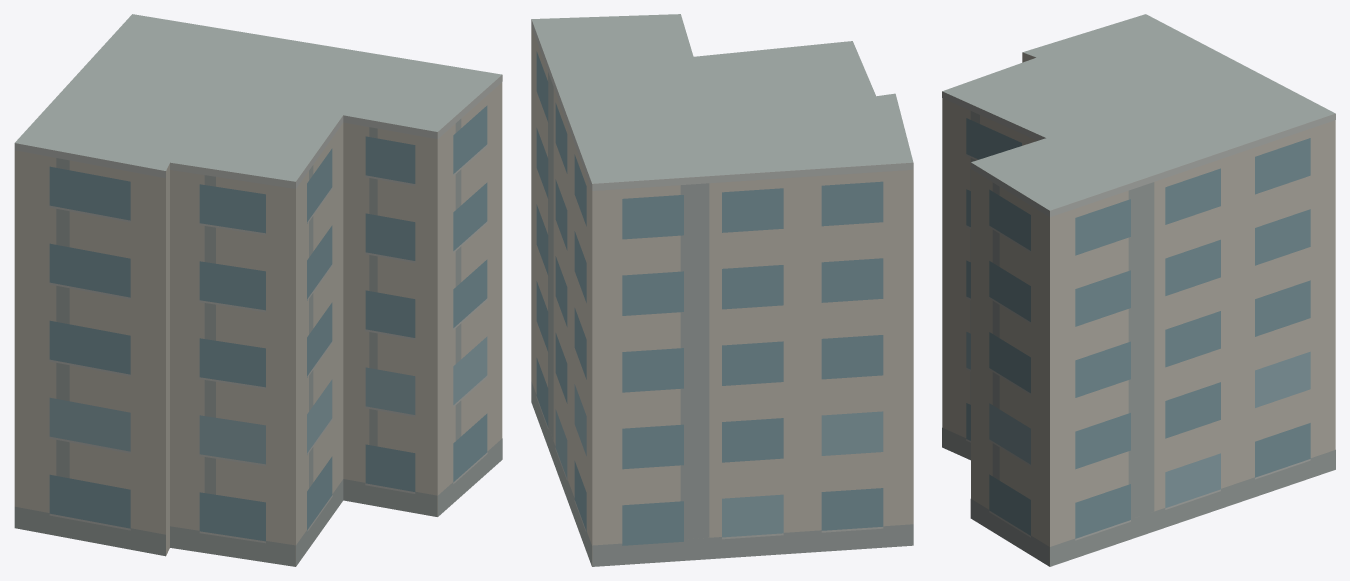
Rendered from survey-upis-32823666.glb.
3 views of the same model, side by side, from view 1: azimuth 30°, elevation 25°; view 2: azimuth 150°, elevation 25°; view 3: azimuth 270°, elevation 25° (orthographic). The views are drawn at different scales.
Visible parts, largest first — view 1: survey-upis-32823666.tmp; view 2: survey-upis-32823666.tmp; view 3: survey-upis-32823666.tmp.
Part boxes in pixels (bbox=[...]): survey-upis-32823666.tmp: bbox=[14, 14, 502, 566]; survey-upis-32823666.tmp: bbox=[531, 14, 913, 566]; survey-upis-32823666.tmp: bbox=[942, 14, 1335, 566].
Bounding box in the file's own units: 15.53 × 13.1 × 13.13.
